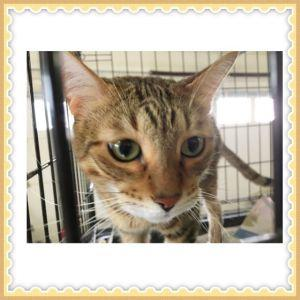bengal: (56, 48, 239, 229)
